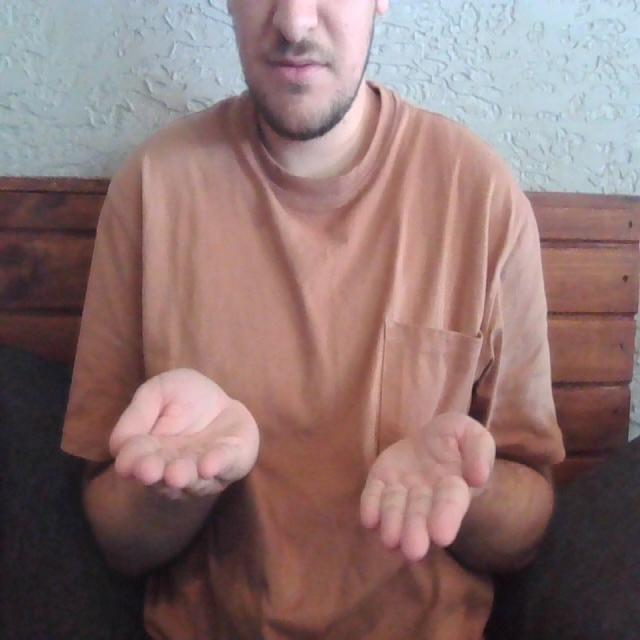Evet: (104, 361, 500, 563)
